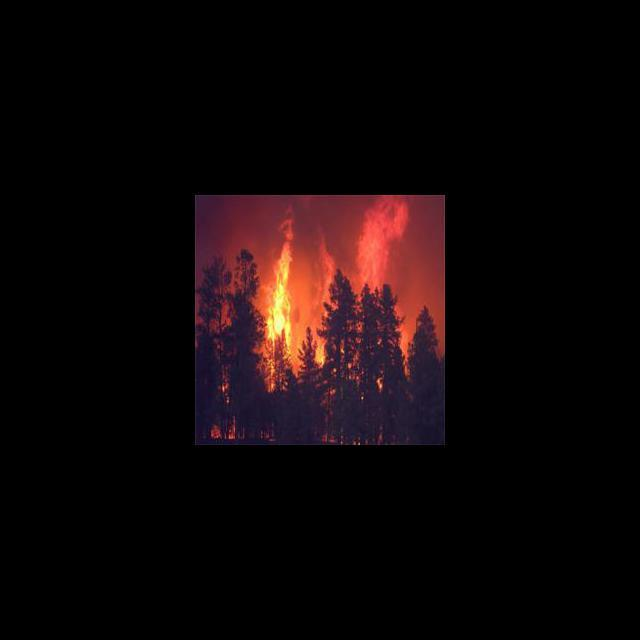Fire: (314, 204, 403, 292), (264, 212, 301, 380)
